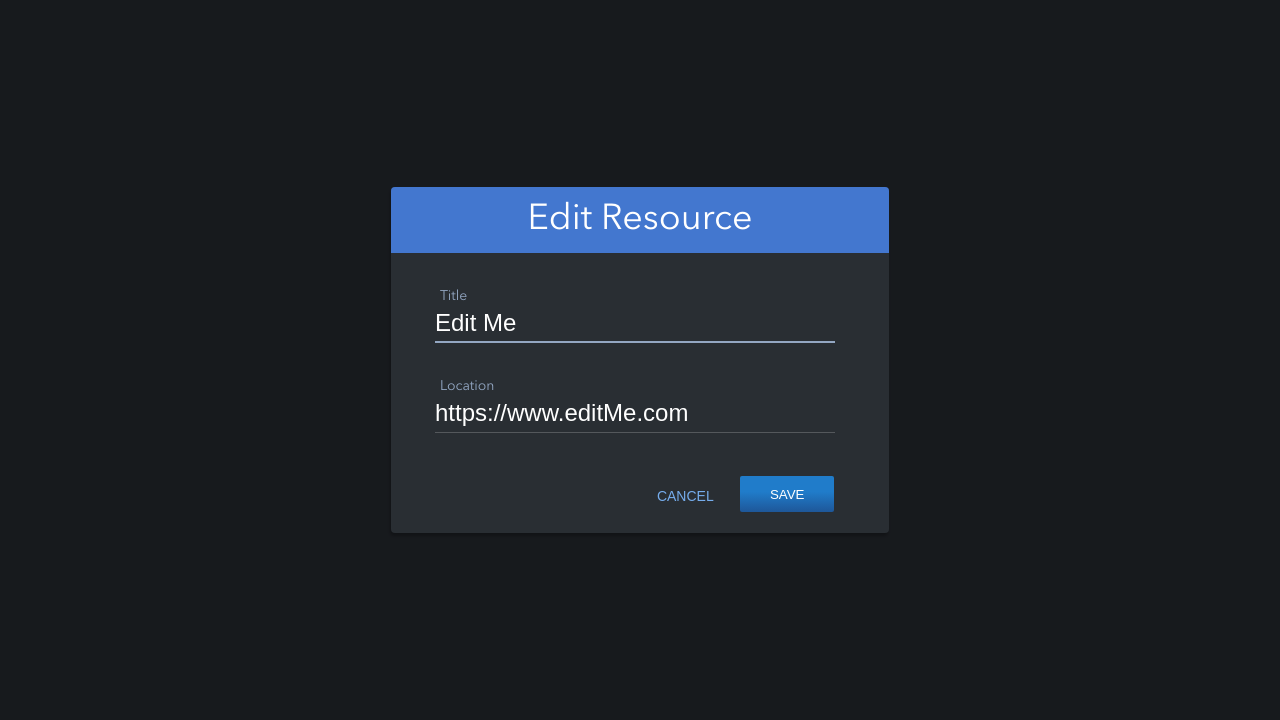
Scenario: EditResourcePopup › should stop you from inputting an invalid url
Type "www.google.com" into the field below "Location" at x=635, y=416, box [435,398,835,433]
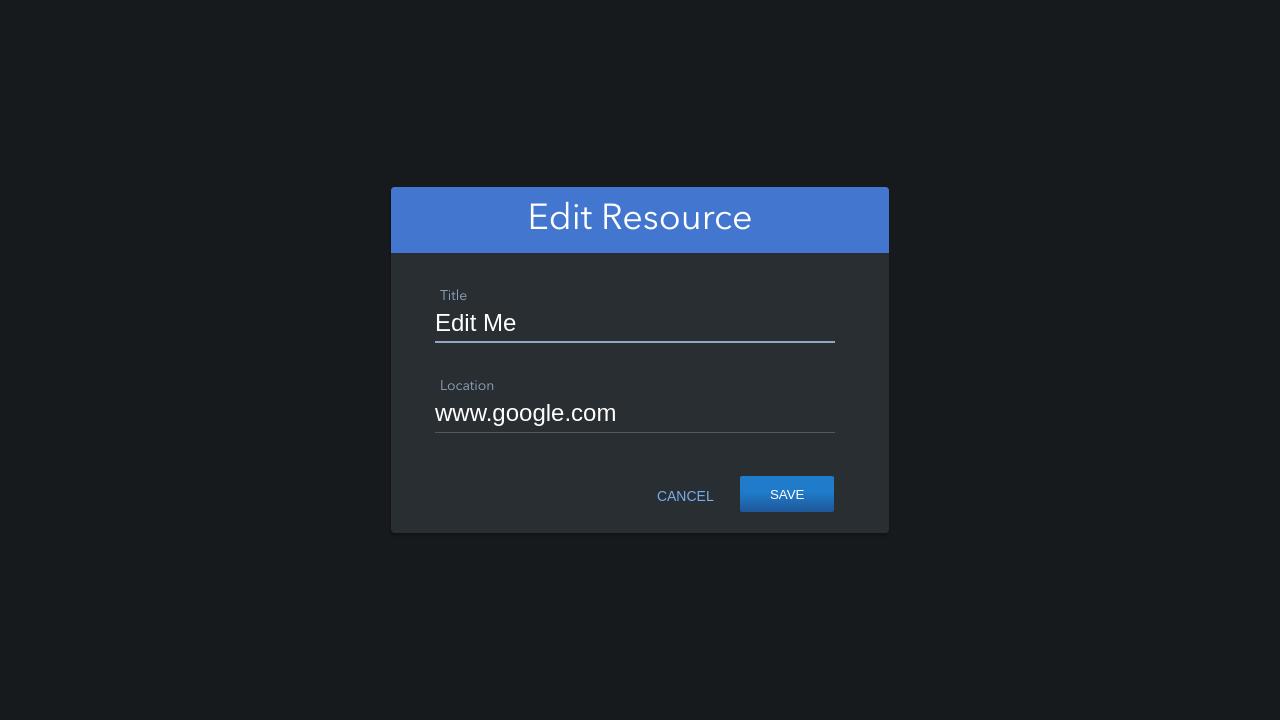
Click the button with class "saveButton" at x=787, y=494, box [740,476,834,512]
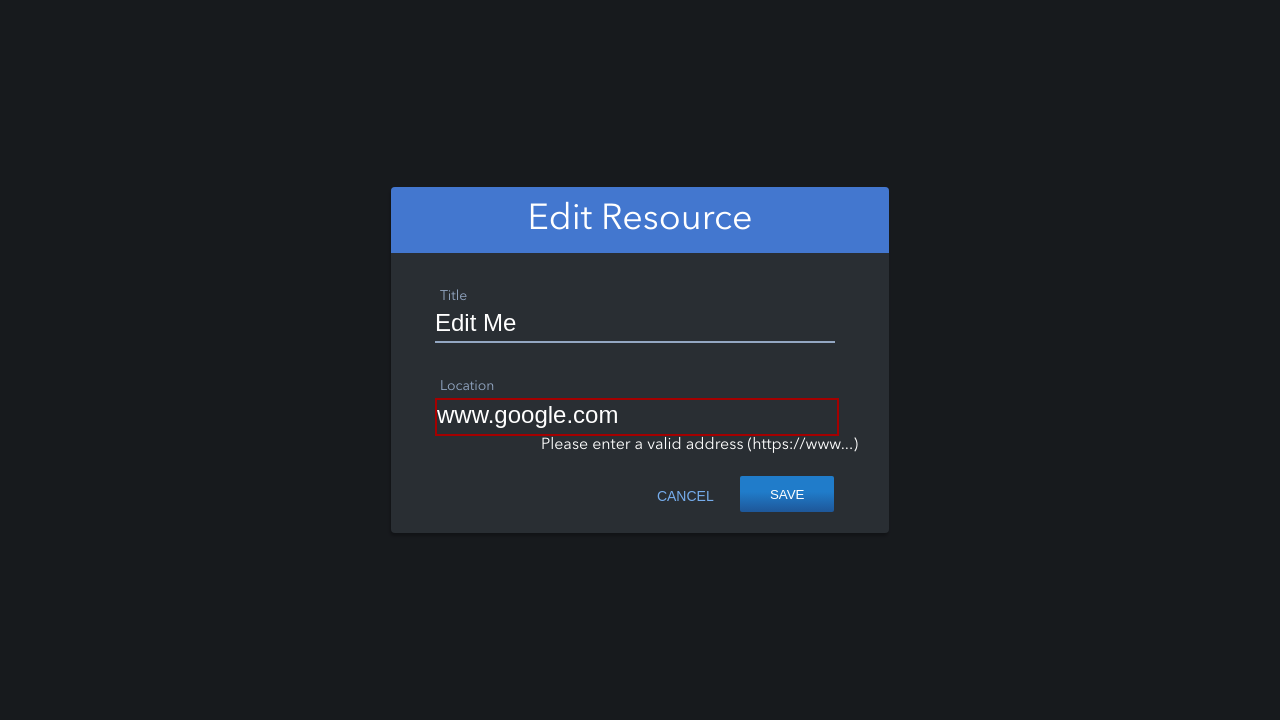
Expected: the text with class "urlError" reads "Please enter a valid address (https://www...)", [541,437,858,453]
